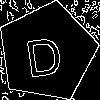D: (22, 27, 64, 78)
